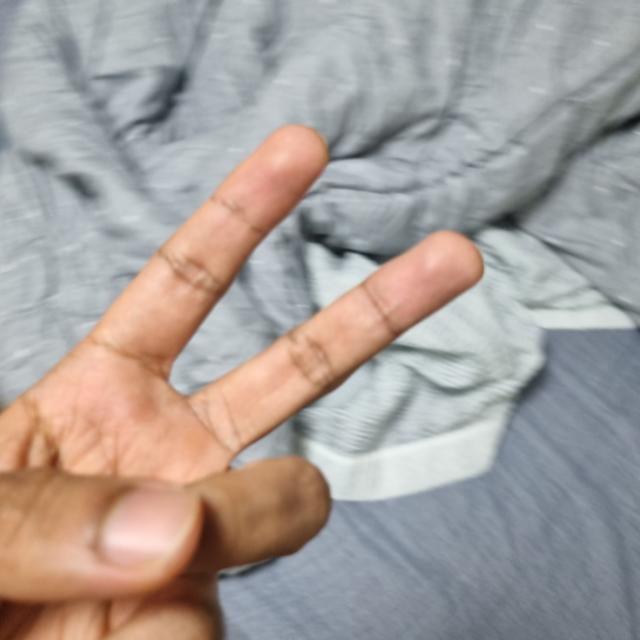Scissors: (0, 123, 474, 639)
